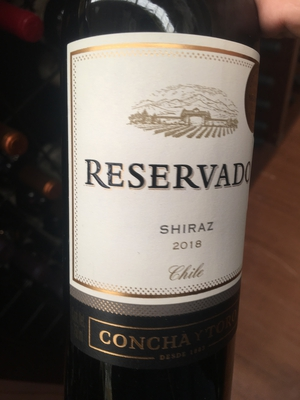reservado shiraz: (66, 16, 278, 400)
